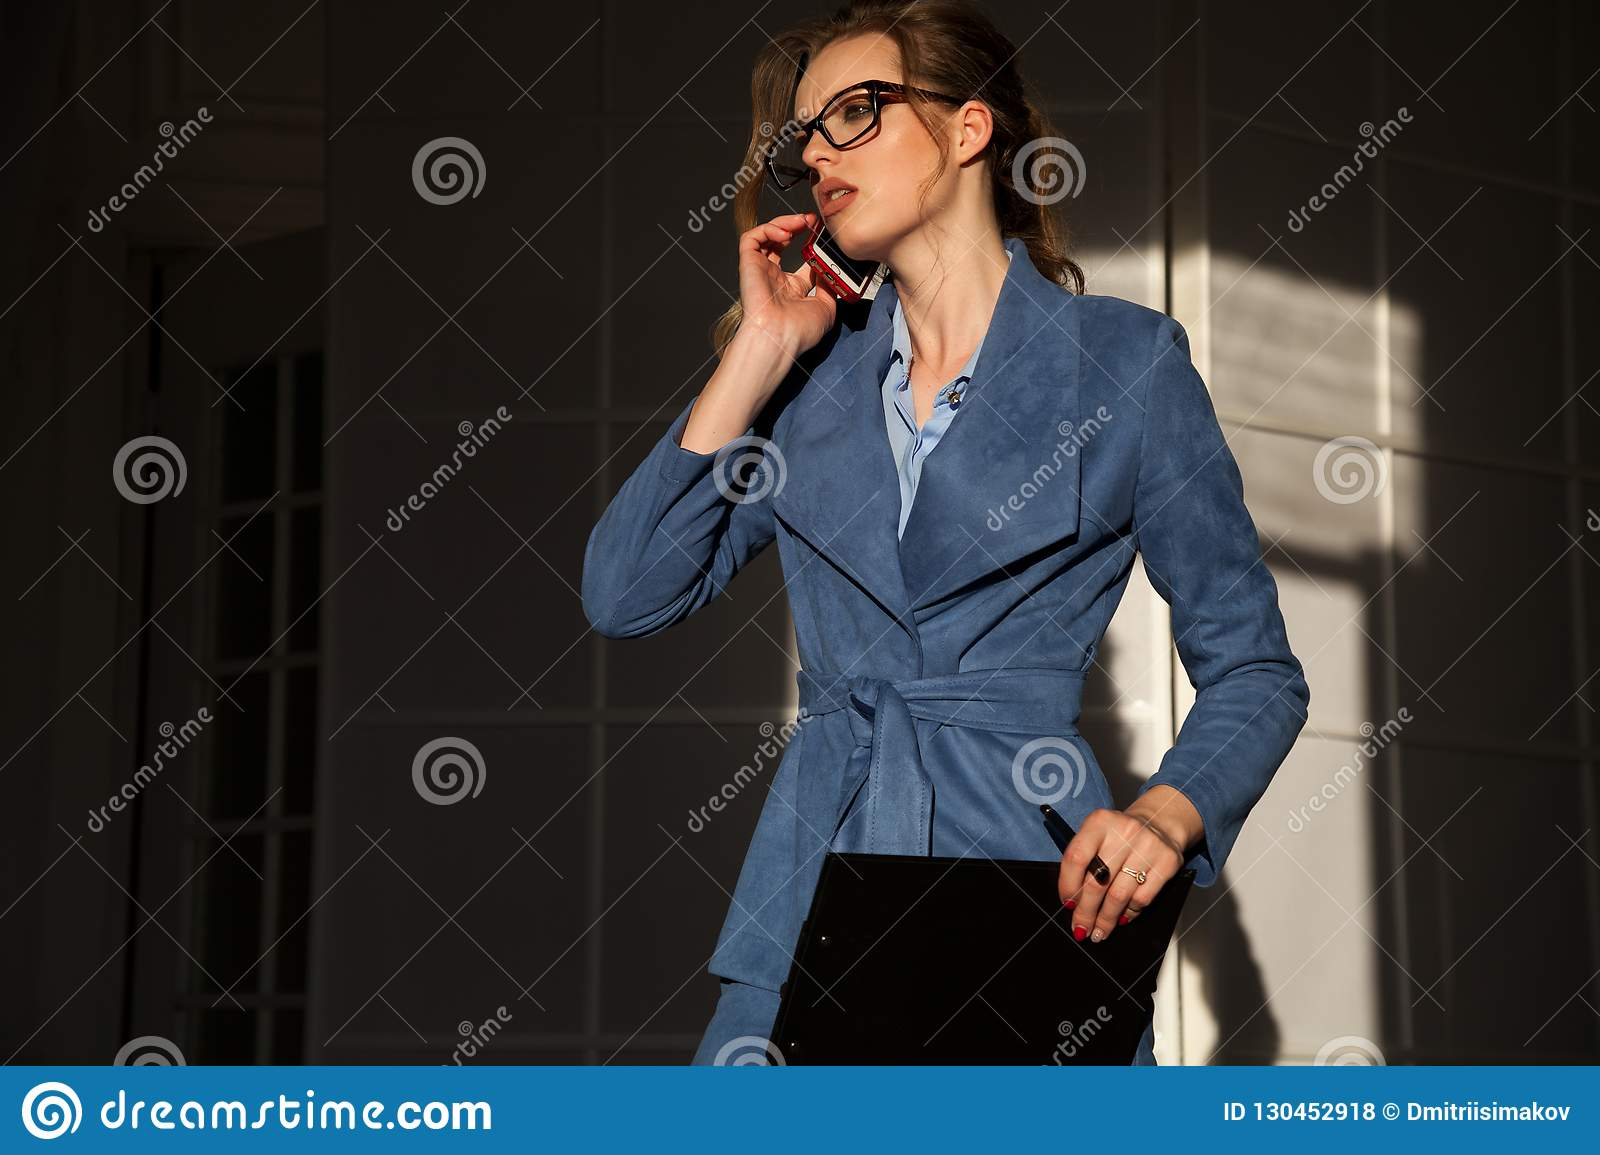phone: (802, 220, 880, 315)
talk: (738, 79, 887, 327)
